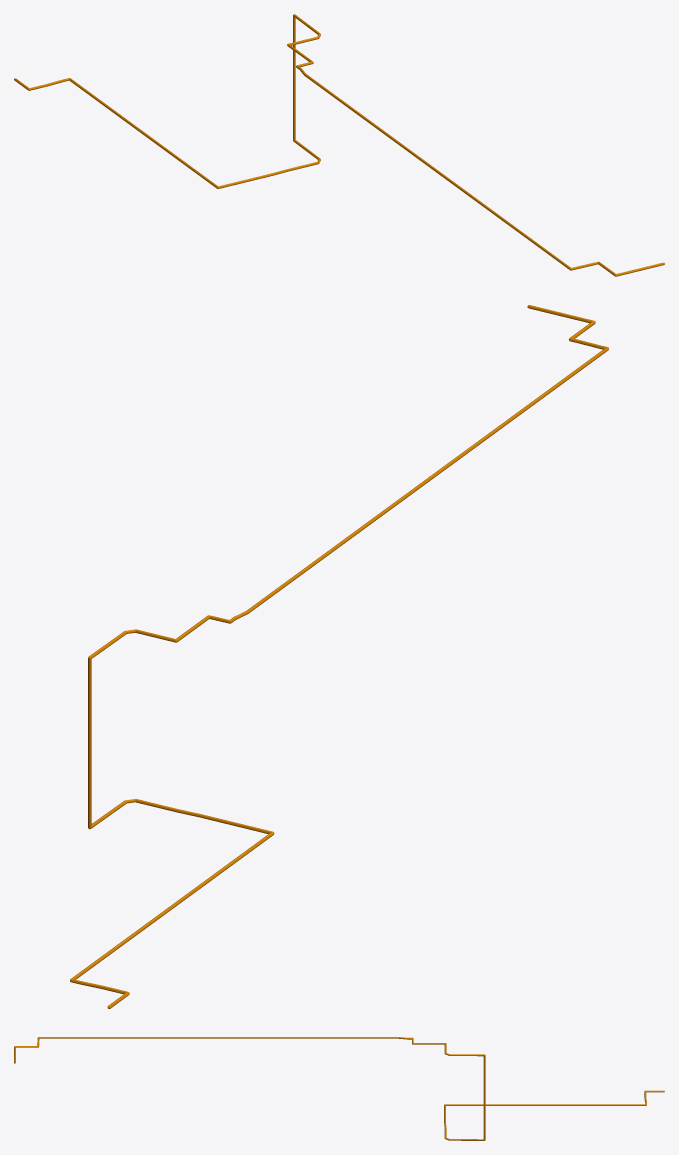
The picture shows the model from 3 angles, top to bottom: view 1: azimuth 30°, elevation 25°; view 2: azimuth 150°, elevation 25°; view 3: azimuth 270°, elevation 25°; orthographic projection. The views are drawn at different scales.
Size of the model in its own units: 1435 by 1020 by 6961.
